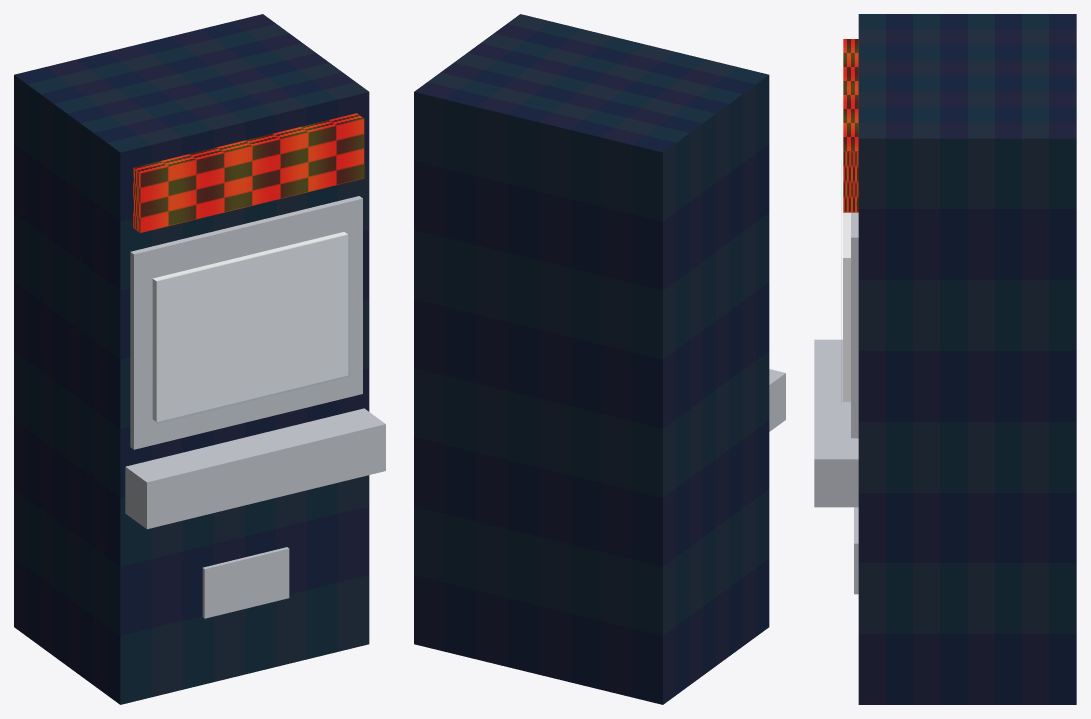
File: demo-cabinet.glb
The picture shows the model from 3 angles, left to right: view 1: azimuth 30°, elevation 25°; view 2: azimuth 150°, elevation 25°; view 3: azimuth 270°, elevation 25°; orthographic projection. The views are drawn at different scales.
Bounding box in the file's own units: 1 × 2.12 × 0.89.
5 materials, 2 textured.
